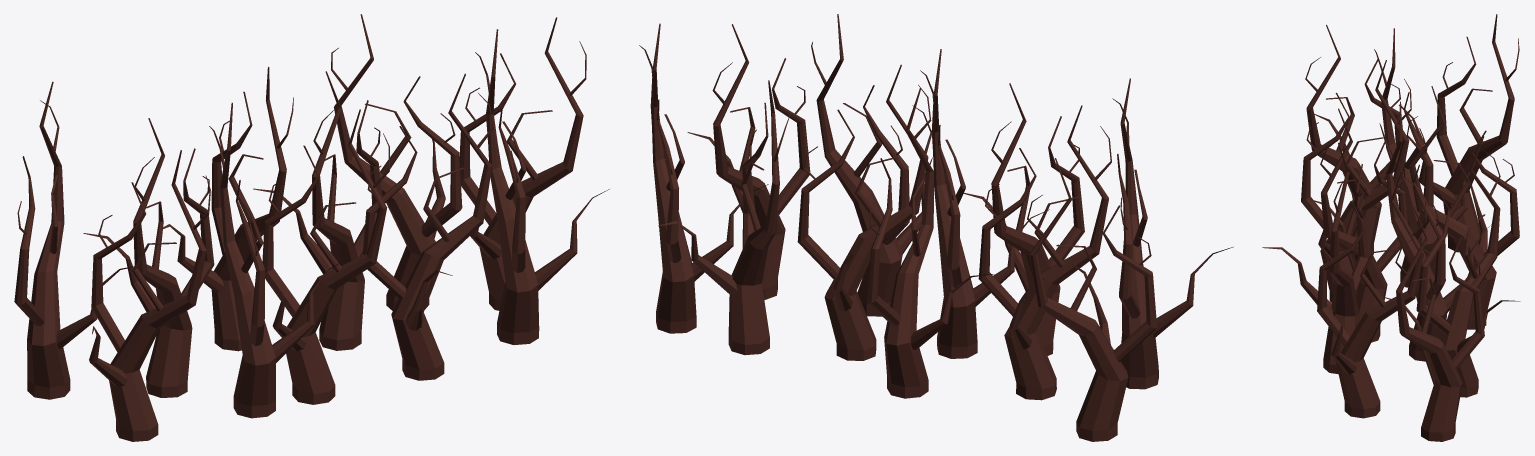
Rendered from group_of_trees.fbx.
3 views of the same model, side by side, from view 1: azimuth 30°, elevation 25°; view 2: azimuth 150°, elevation 25°; view 3: azimuth 270°, elevation 25° (orthographic). The views are drawn at different scales.
Parts seen in each view (by area): view 1: Cylinder; view 2: Cylinder; view 3: Cylinder.
Boxes of the visible parts, bbox=[...] form: Cylinder: bbox=[14, 14, 609, 441]; Cylinder: bbox=[639, 14, 1233, 441]; Cylinder: bbox=[1262, 14, 1520, 441].
Size of the model in its own units: 3192 by 1667 by 1567.
